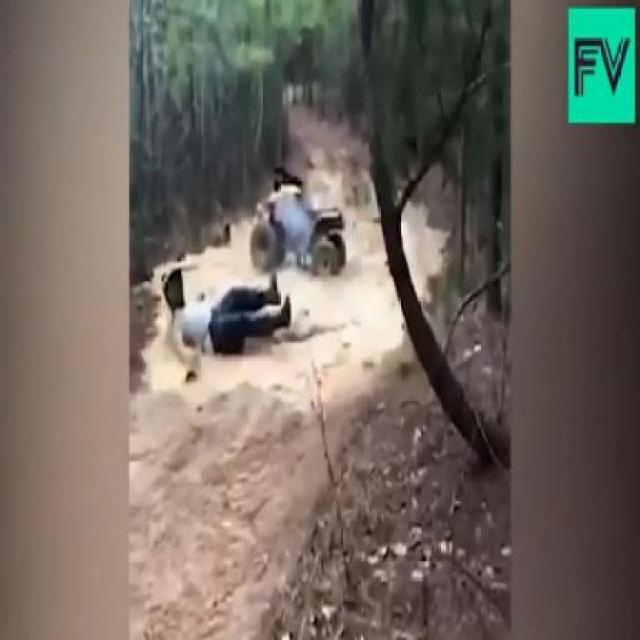fall: (162, 248, 289, 374)
